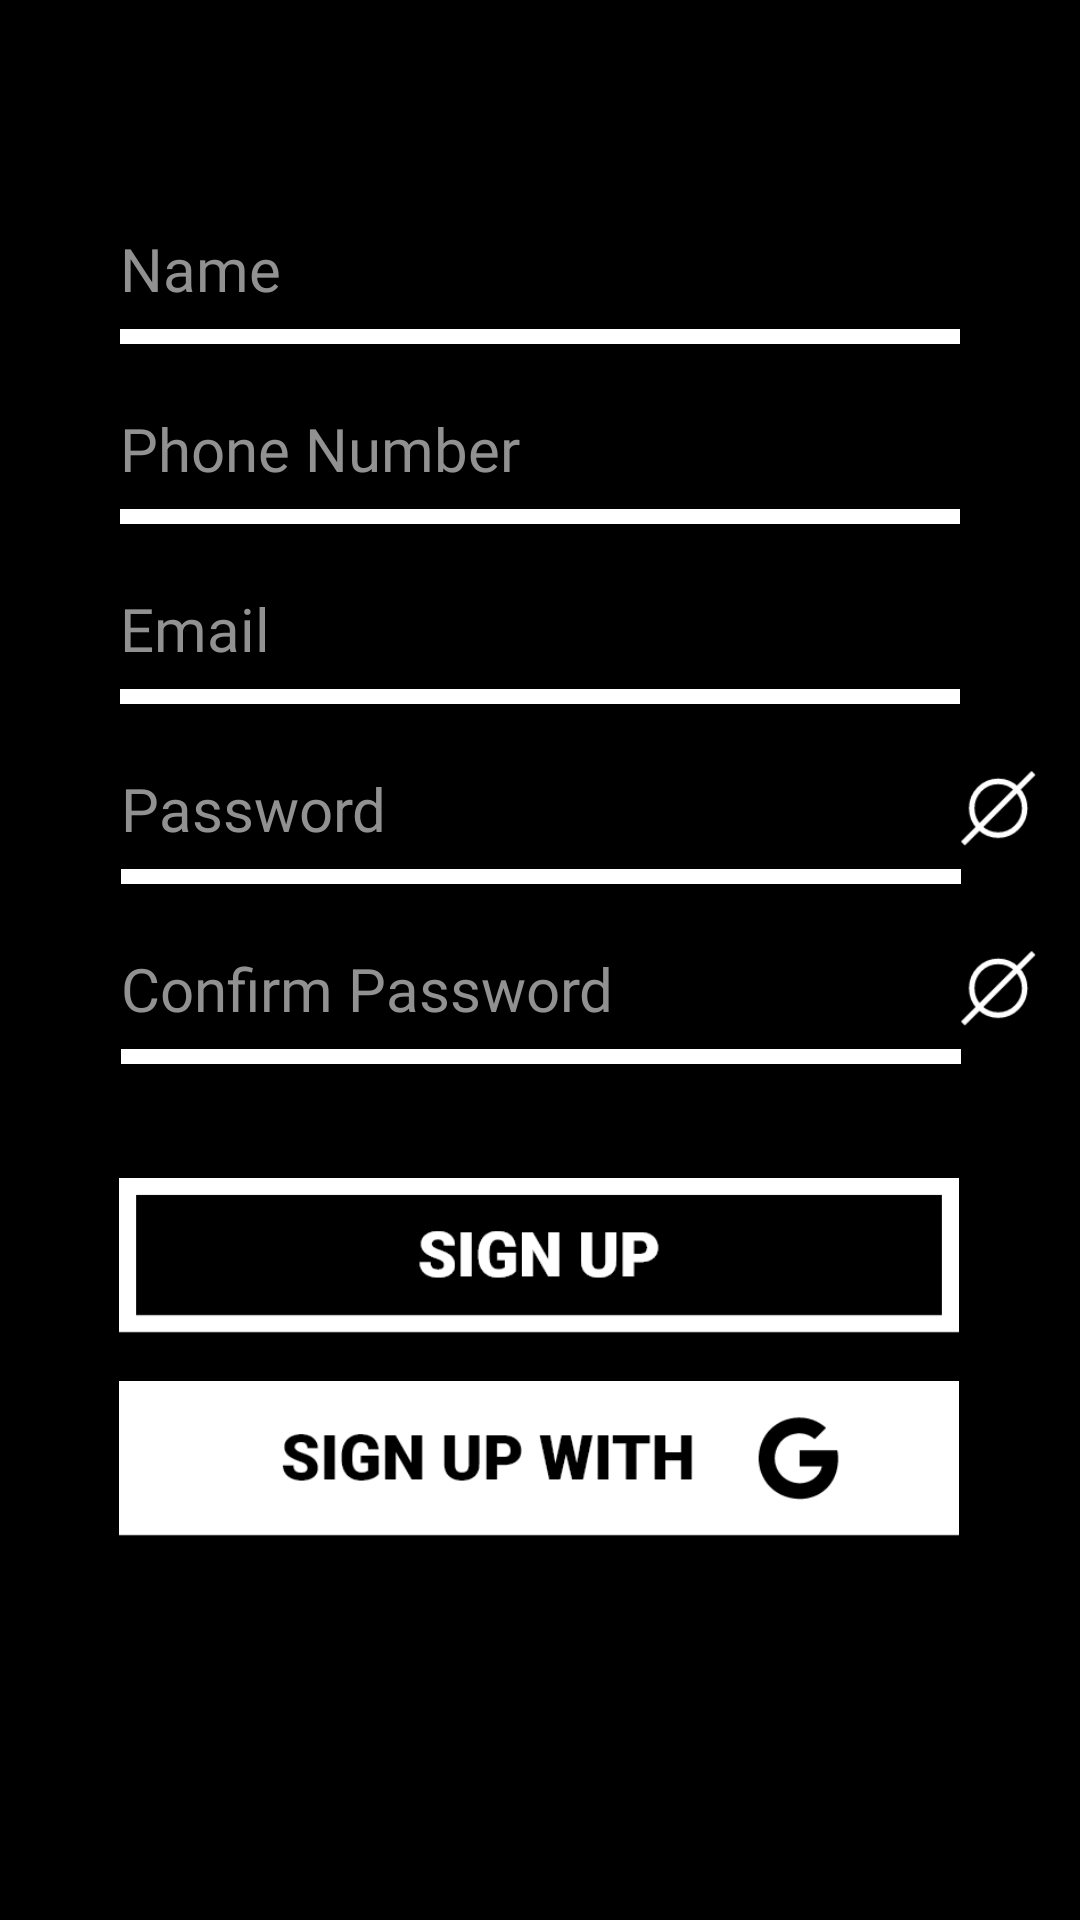

Icon click points for this 1080px×1920px phone screenshot, format [x,y]:
invisible: [998,808], [998,988]
